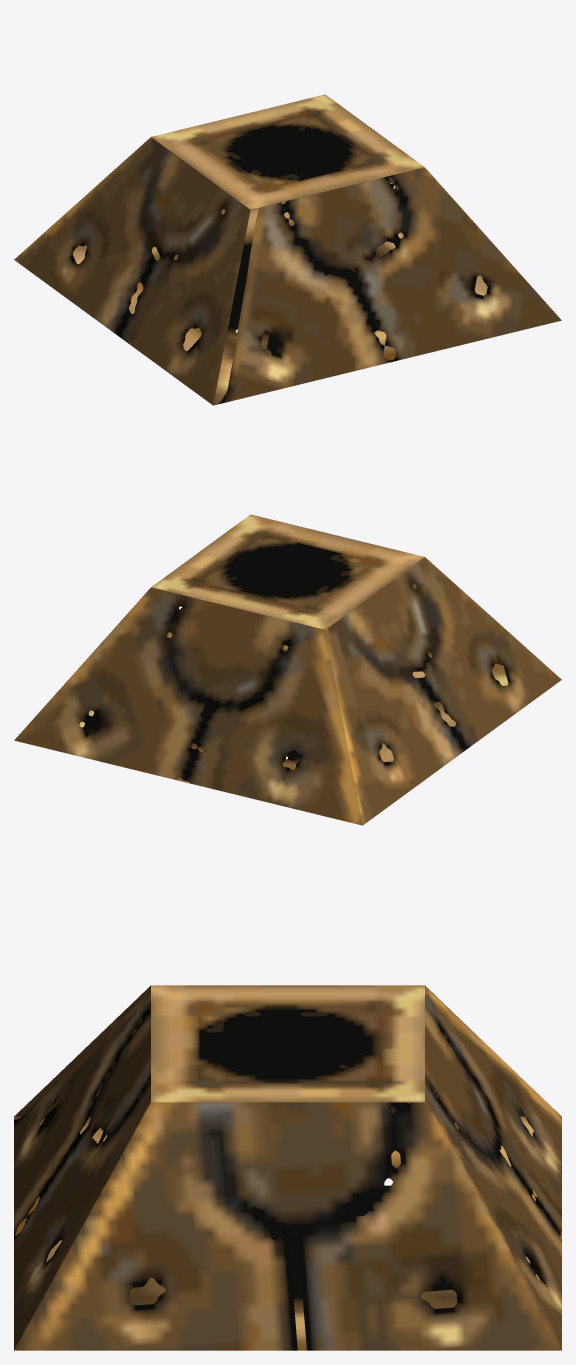
Rendered from trapanimation_82d368e3.glb.
3 views of the same model, one above another, from view 1: azimuth 30°, elevation 25°; view 2: azimuth 150°, elevation 25°; view 3: azimuth 270°, elevation 25° (orthographic). The views are drawn at different scales.
Bounding box in the file's own units: 0.308 × 0.2328 × 0.3048.
Materials: 1 (1 with a texture image).
